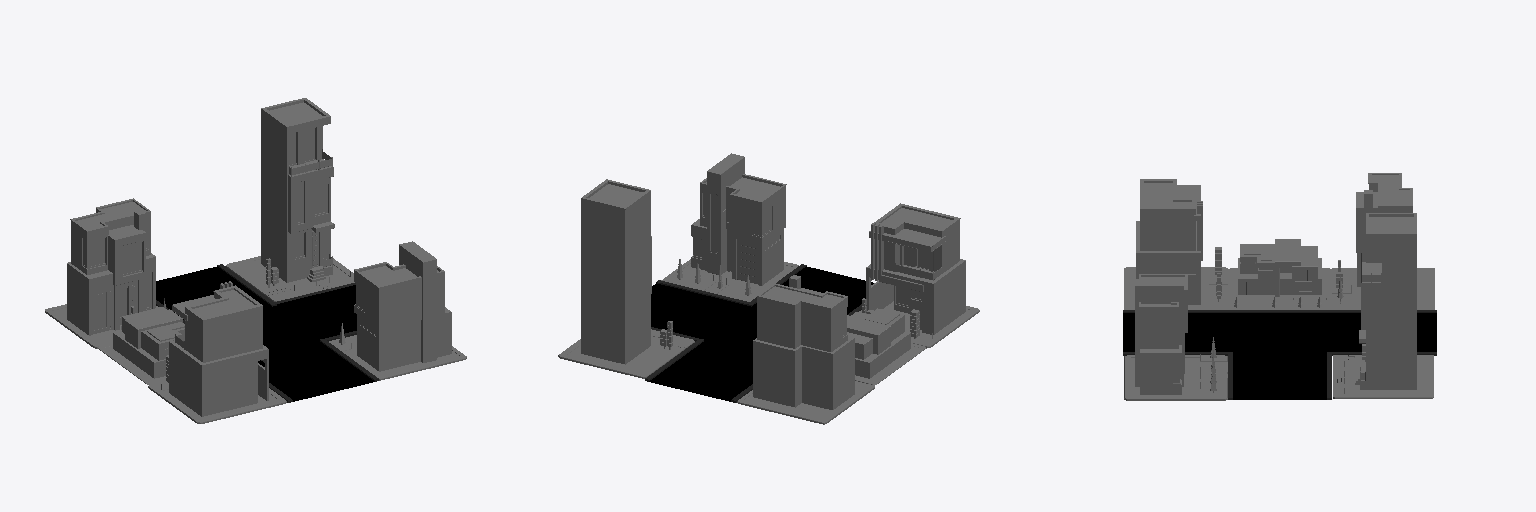
Rendered from road10.obj.
The picture shows the model from 3 angles: view 1: azimuth 30°, elevation 25°; view 2: azimuth 150°, elevation 25°; view 3: azimuth 270°, elevation 25°; orthographic projection.
Visible parts, largest first — view 1: T_Intersection, Box437_Mesh_164, Box345_Mesh_313, Box335_Mesh_309, Box524_Mesh_122, Line017_Mesh_194, Box522_Mesh_120, Box523_Mesh_121, Object093_Mesh_304, Object141_Mesh_171, Rectangle007_Mesh_175, Object122_Mesh_199 (+14 smaller); view 2: T_Intersection, Box437_Mesh_164, Line017_Mesh_194, Box422_Mesh_187, Box345_Mesh_313, Box523_Mesh_121, Box524_Mesh_122, Box335_Mesh_309, Rectangle007_Mesh_175, Object100_Mesh_311, Object122_Mesh_199, Object174_Mesh_127 (+15 smaller); view 3: T_Intersection, Box437_Mesh_164, Box335_Mesh_309, Box523_Mesh_121, Box522_Mesh_120, Box345_Mesh_313, Object276_Mesh_119, Line022_Mesh_129, Object100_Mesh_311, Rectangle007_Mesh_175, Object122_Mesh_199, Line020_Mesh_128 (+12 smaller).
Boxes of the visible parts, x1,y1,x2,y2 form: T_Intersection: [156, 264, 378, 402]; Box437_Mesh_164: [261, 109, 330, 282]; Box345_Mesh_313: [169, 340, 268, 416]; Box335_Mesh_309: [185, 293, 262, 362]; Box524_Mesh_122: [354, 270, 444, 329]; Line017_Mesh_194: [67, 253, 155, 335]; Box522_Mesh_120: [379, 307, 451, 371]; Box523_Mesh_121: [399, 241, 436, 362]; Object093_Mesh_304: [213, 361, 257, 413]; Object141_Mesh_171: [289, 128, 331, 266]; Rectangle007_Mesh_175: [226, 256, 354, 301]; Object122_Mesh_199: [70, 198, 150, 240]; T_Intersection: [645, 264, 873, 402]; Box437_Mesh_164: [581, 191, 650, 364]; Line017_Mesh_194: [753, 336, 854, 409]; Box422_Mesh_187: [757, 297, 847, 351]; Box345_Mesh_313: [866, 259, 965, 334]; Box523_Mesh_121: [707, 153, 744, 274]; Box524_Mesh_122: [730, 185, 785, 244]; Box335_Mesh_309: [884, 220, 959, 273]; Rectangle007_Mesh_175: [558, 329, 694, 378]; Object100_Mesh_311: [874, 203, 960, 231]; Object122_Mesh_199: [757, 283, 847, 308]; Object174_Mesh_127: [732, 229, 783, 285]; T_Intersection: [1123, 310, 1436, 399]; Box437_Mesh_164: [1366, 235, 1416, 389]; Box335_Mesh_309: [1140, 210, 1195, 250]; Box523_Mesh_121: [1135, 279, 1183, 386]; Box522_Mesh_120: [1140, 345, 1181, 394]; Box345_Mesh_313: [1136, 221, 1200, 304]; Object276_Mesh_119: [1139, 307, 1178, 348]; Line022_Mesh_129: [1124, 355, 1227, 400]; Object100_Mesh_311: [1140, 179, 1195, 209]; Rectangle007_Mesh_175: [1333, 355, 1433, 398]; Object122_Mesh_199: [1356, 173, 1412, 207]; Line020_Mesh_128: [1131, 358, 1227, 396].
Size of the model in its own units: 20.01 by 11.22 by 20.13.